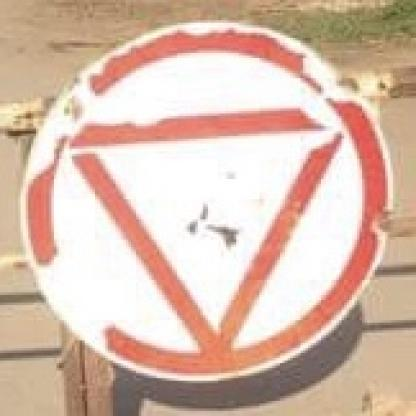Give Way: (23, 22, 395, 387)
